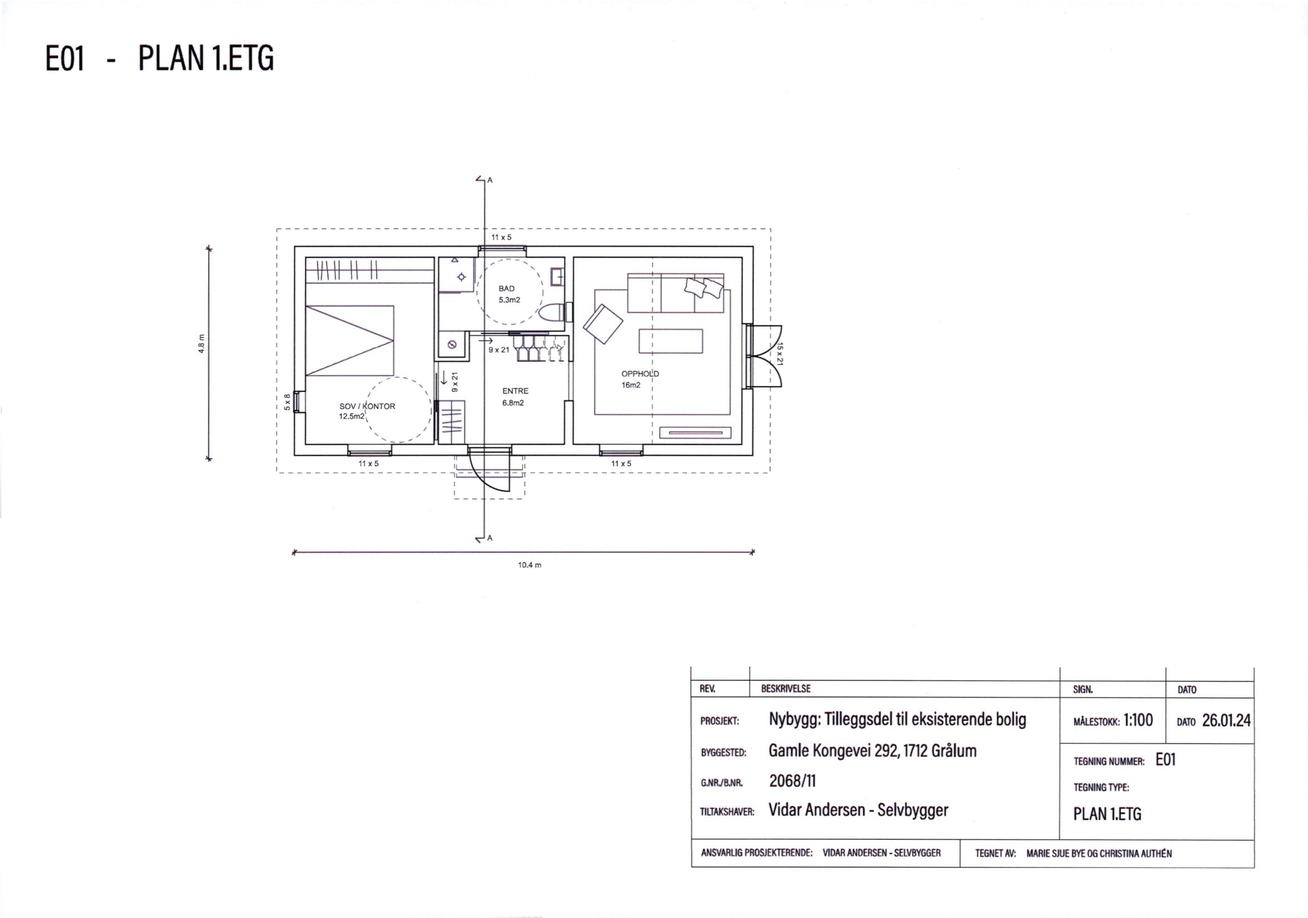plantegning: (293, 245, 783, 492)
